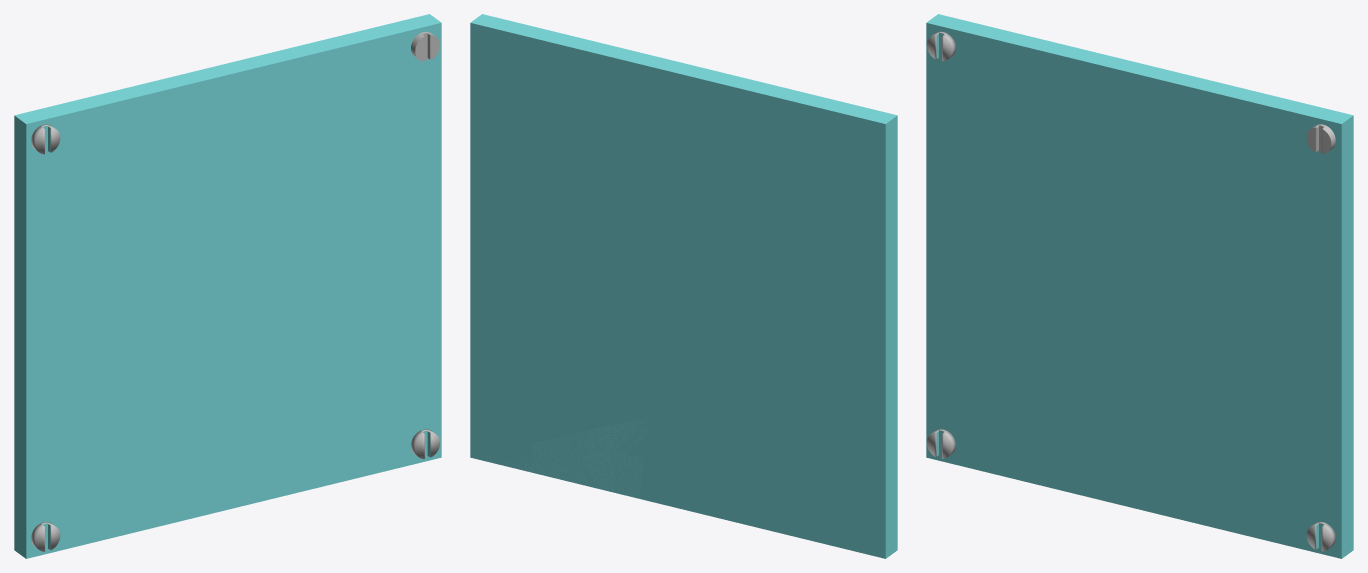
File: glass_broken.fbx
The picture shows the model from 3 angles, left to right: view 1: azimuth 30°, elevation 25°; view 2: azimuth 150°, elevation 25°; view 3: azimuth 330°, elevation 25°; orthographic projection.
Parts seen in each view (by area): view 1: piece6, piece4, piece5, piece3, piece2, piece1; view 2: piece2, piece6, piece5, piece1, piece4, piece3; view 3: piece4, piece6, piece3, piece5, piece2, piece1.
Boxes of the visible parts, x1,y1,x2,y2 form: piece6: (14,164,233,411); piece4: (185,281,441,498); piece5: (14,334,274,558); piece3: (206,118,441,342); piece2: (204,14,441,208); piece1: (14,61,234,208); piece2: (470,14,692,238); piece6: (681,193,897,457); piece5: (639,338,897,558); piece1: (664,65,897,242); piece4: (470,288,722,498); piece3: (470,166,724,372); piece4: (1086,302,1353,558); piece6: (926,104,1133,371); piece3: (1106,152,1353,417); piece5: (926,301,1174,517); piece2: (1104,68,1353,309); piece1: (926,14,1158,159).
Bounding box in the file's own units: 200 × 200 × 13.62.
